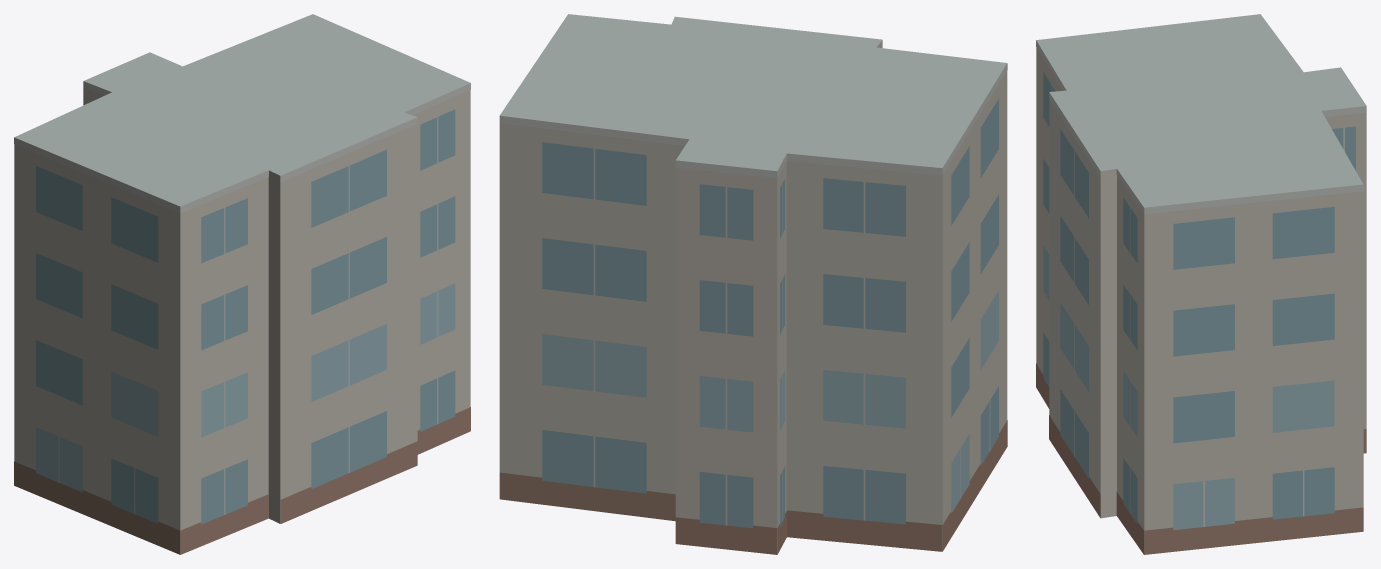
File: survey-upis-32728037.glb
3 views of the same model, side by side, from view 1: azimuth 30°, elevation 25°; view 2: azimuth 150°, elevation 25°; view 3: azimuth 270°, elevation 25° (orthographic). The views are drawn at different scales.
Parts seen in each view (by area): view 1: survey-upis-32728037.tmp; view 2: survey-upis-32728037.tmp; view 3: survey-upis-32728037.tmp.
Part boxes in pixels (<box>): survey-upis-32728037.tmp: <box>14,14,470,554</box>; survey-upis-32728037.tmp: <box>499,14,1007,554</box>; survey-upis-32728037.tmp: <box>1036,14,1366,554</box>.
Bounding box in the file's own units: 15.33 × 12.8 × 11.06.
